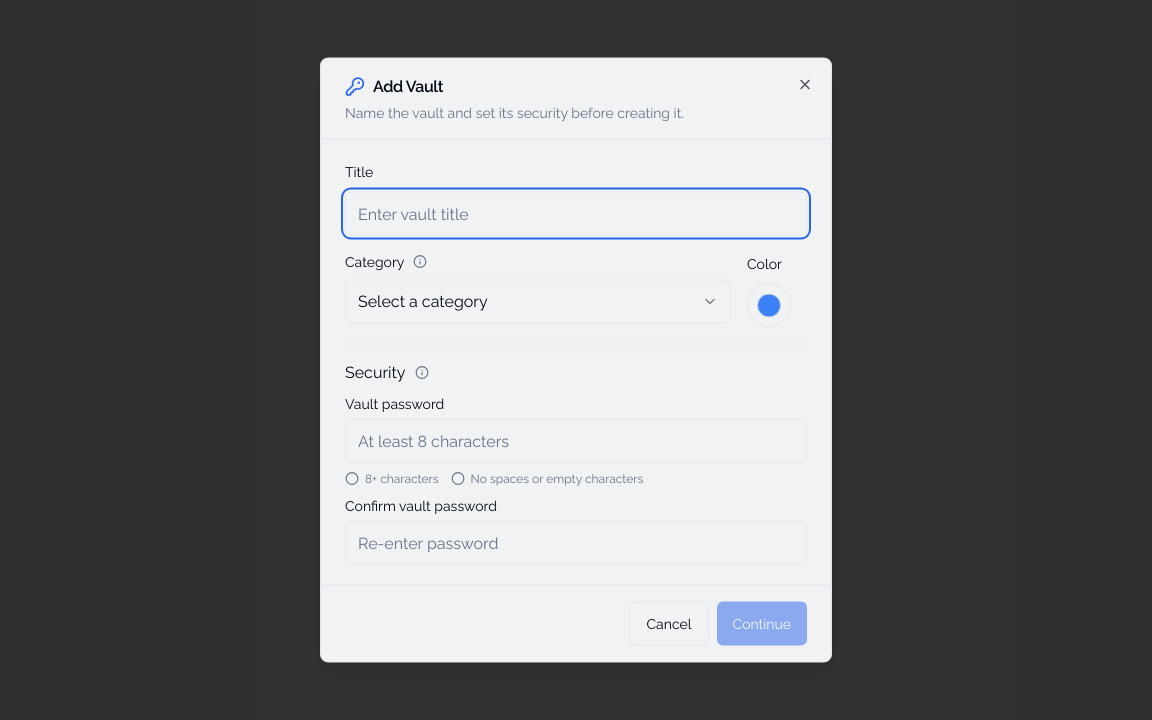
Test: CreateItemModal vault flow › moves vault recovery guidance into an accessible tooltip
expect the text "Itemize cannot reset this password. You will receive a recovery key next." is not shown: met
Focus the button named "About vault password recovery" at coordinates (422, 372), box [412,362,432,382]
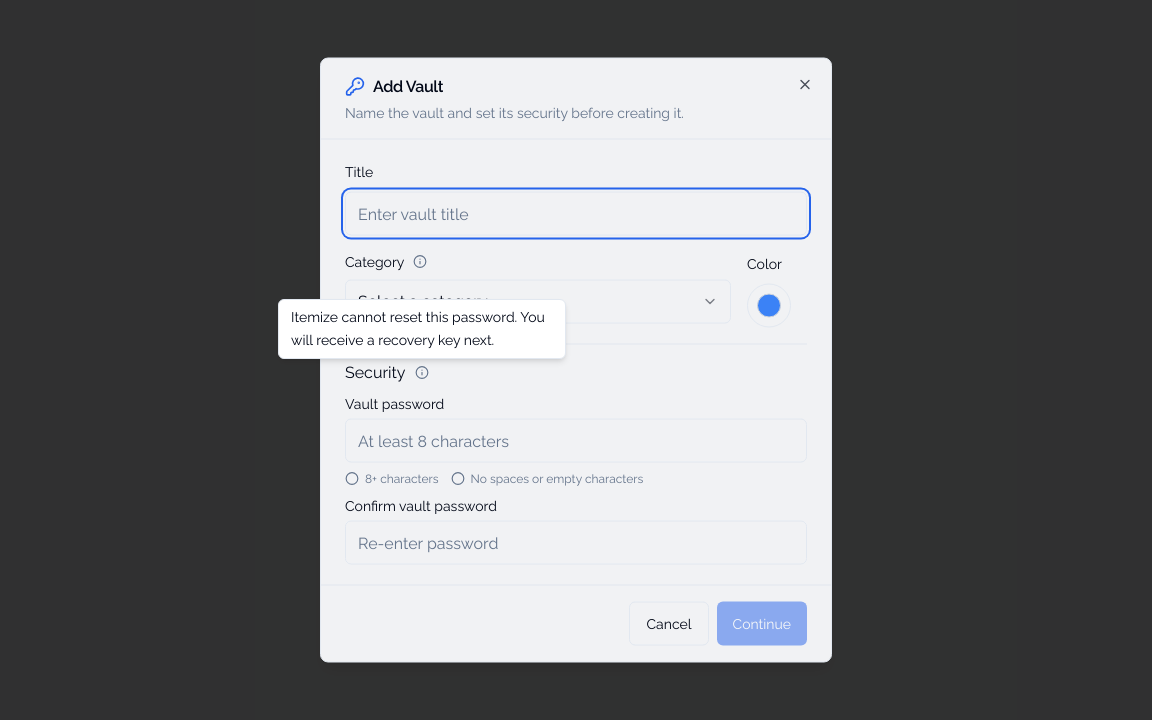
expect the tooltip "Itemize cannot reset this password. You will receive a recovery key next." is shown: met, box [278,299,566,358]
